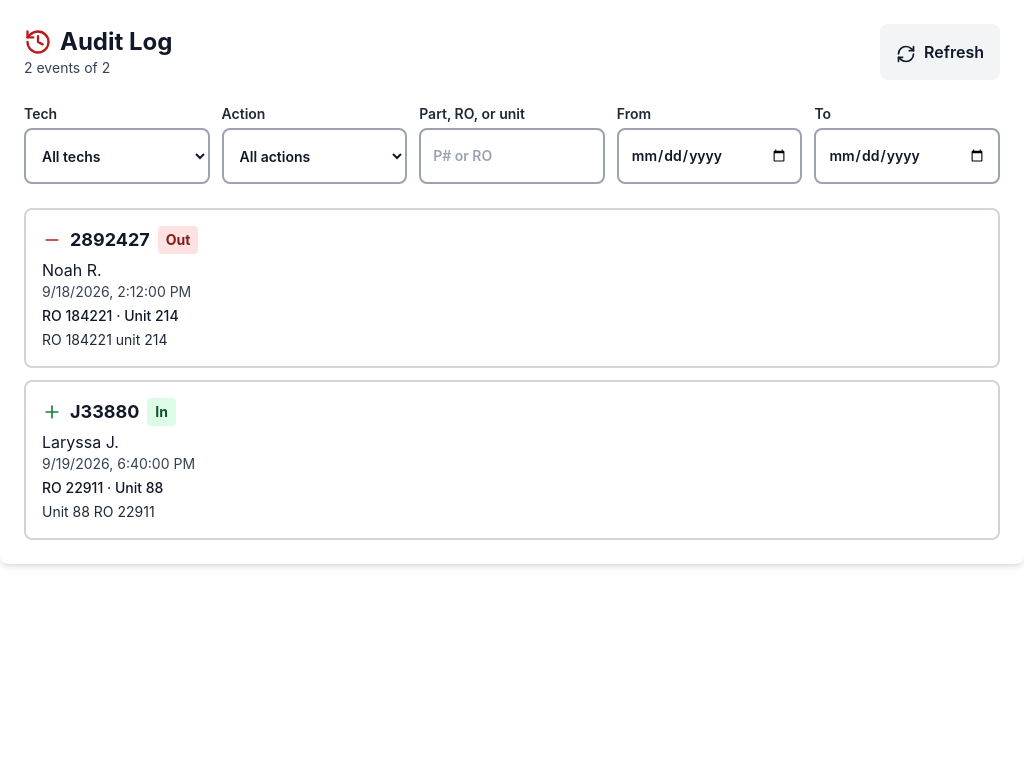
audit log filters by tech and shows RO
Expected: the heading "Audit Log" is shown, [24,26,172,58]
Expected: the text "2892427" is shown, [70,229,150,250]
Select "Laryssa J." in the dropdown labelled "Tech" at (117, 156), box [24,128,210,184]
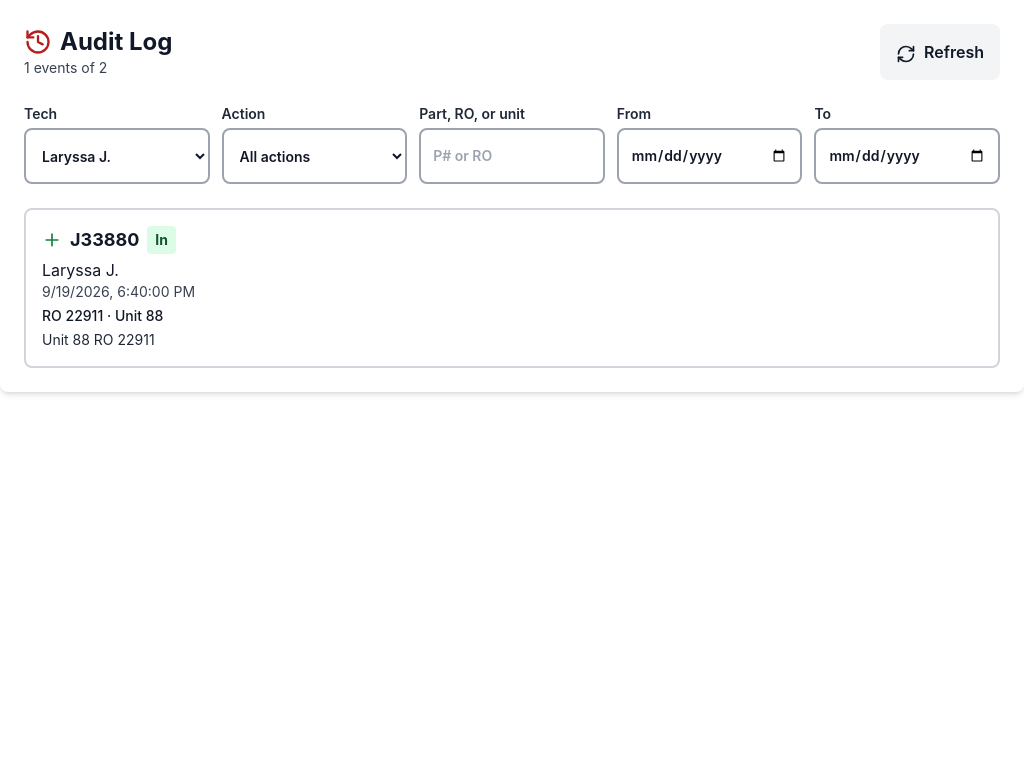
Expected: the text "J33880" is shown, [70,229,139,250]
Result: the text "2892427" is gone
